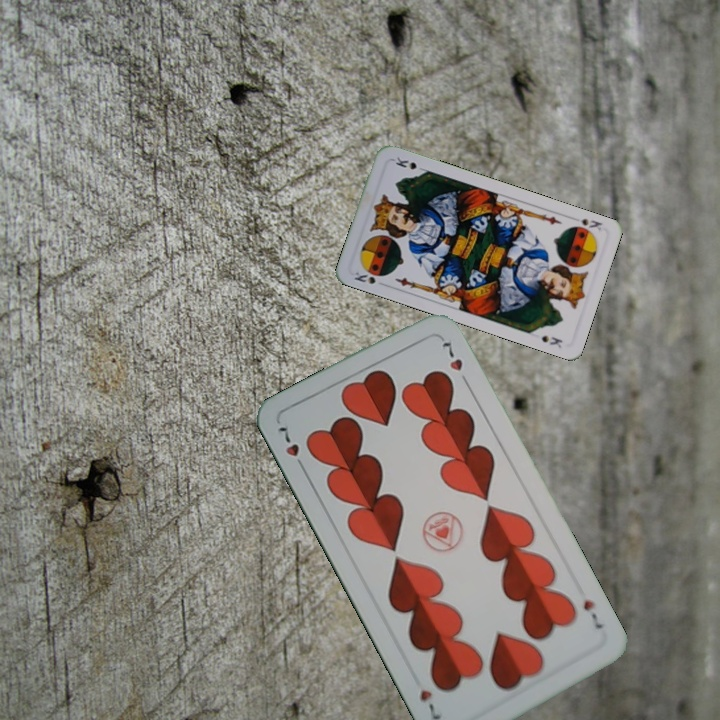H7: (273, 422, 309, 474), (579, 596, 607, 632)
SK: (567, 214, 605, 233), (350, 268, 378, 287)
